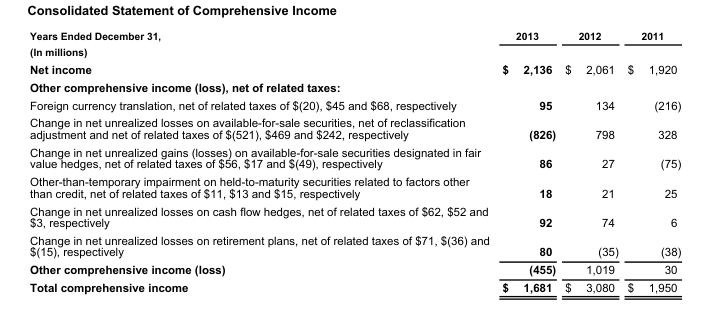table: (29, 29, 680, 293)
table column: (29, 29, 495, 293), (495, 29, 559, 293), (559, 29, 622, 293), (622, 29, 680, 293)
table column header: (29, 29, 680, 43)
table projected row header: (29, 77, 680, 95), (29, 43, 680, 59)
table row: (29, 142, 680, 172), (29, 201, 680, 231), (29, 113, 680, 142), (29, 172, 680, 201), (29, 231, 680, 260), (29, 59, 680, 77), (29, 77, 680, 95), (29, 95, 680, 113), (29, 260, 680, 278), (29, 43, 680, 59), (29, 278, 680, 293), (29, 29, 680, 43)
